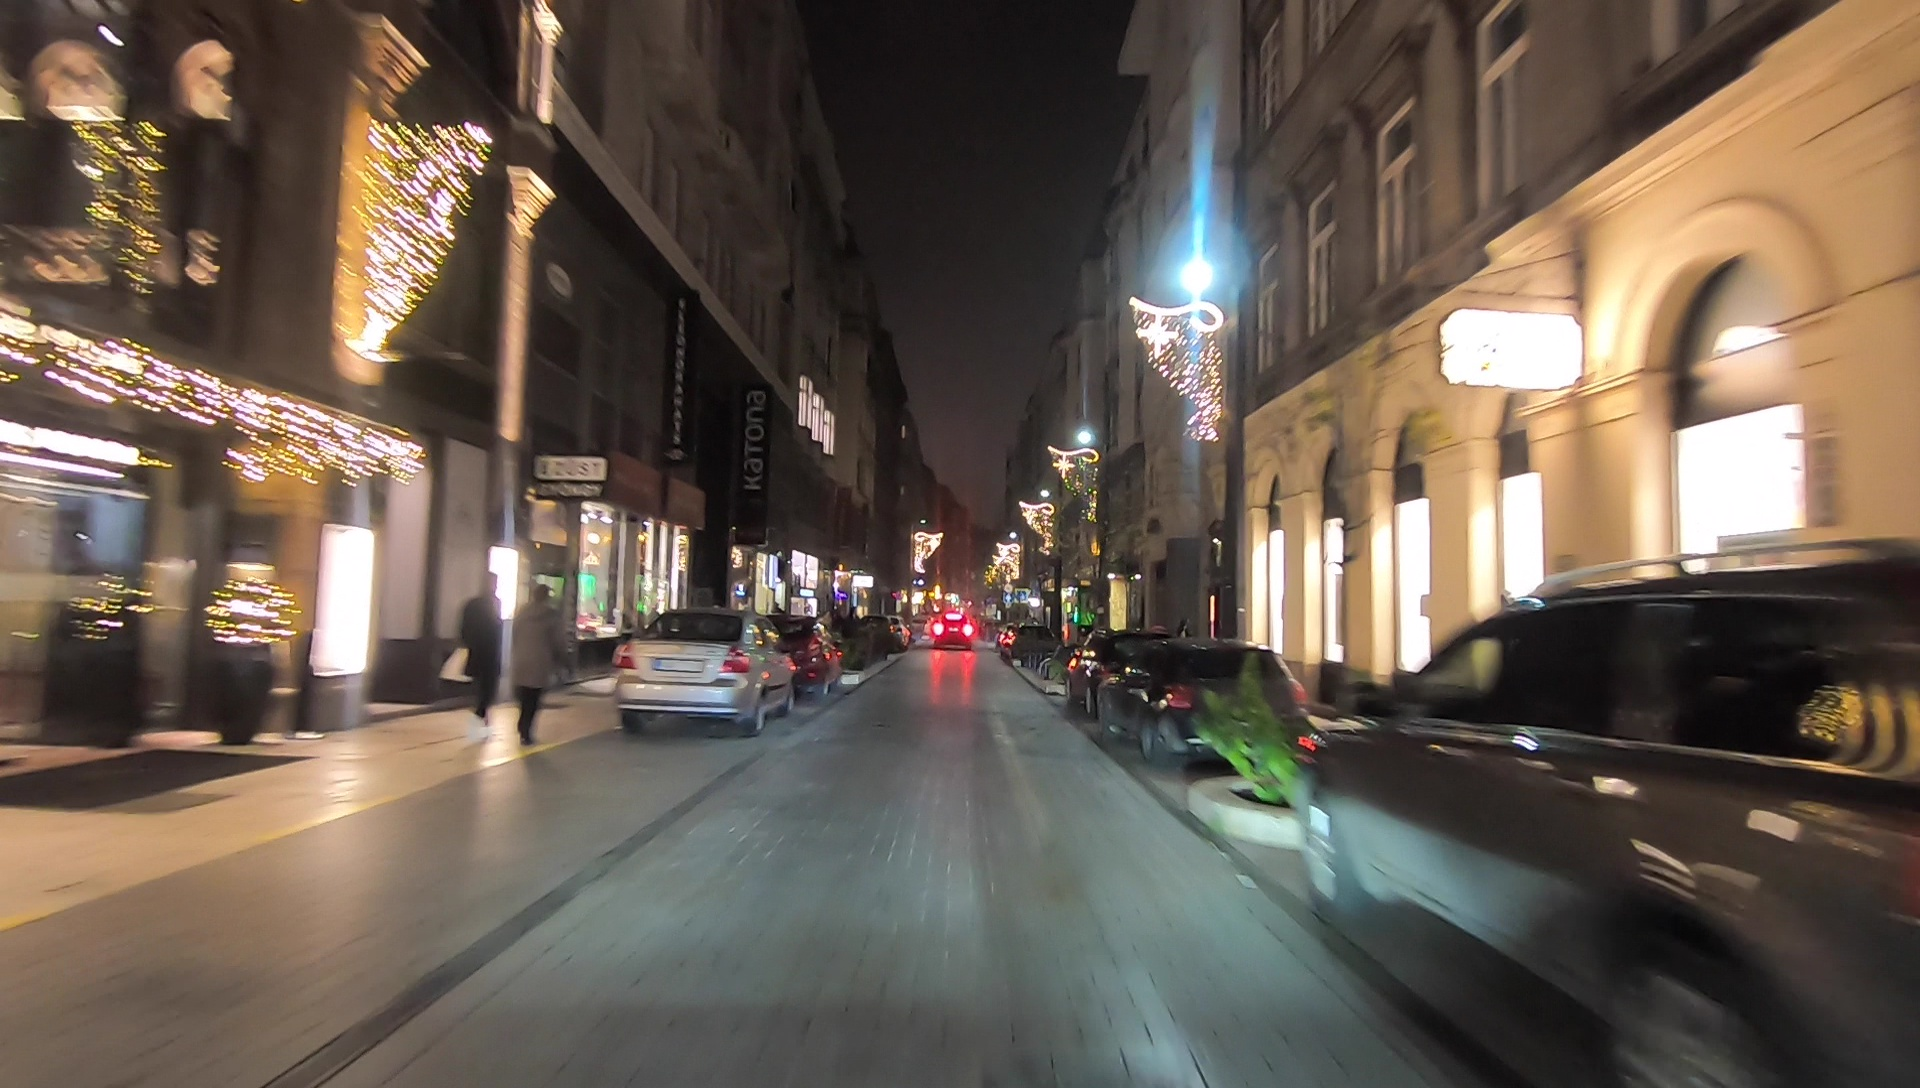person: (512, 587, 562, 749), (462, 573, 502, 730)
